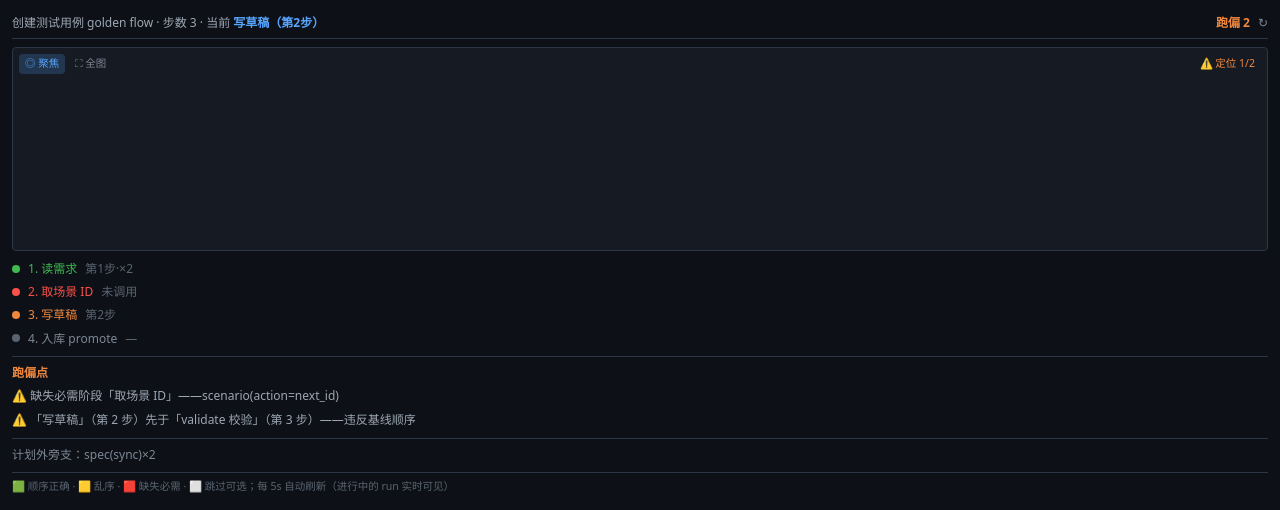
Scenario: ⚠ 定位按钮：问题节点计数与循环进度
Click the button with test id "flow-locate": coordinates (1227, 64) [1194,54,1261,74]
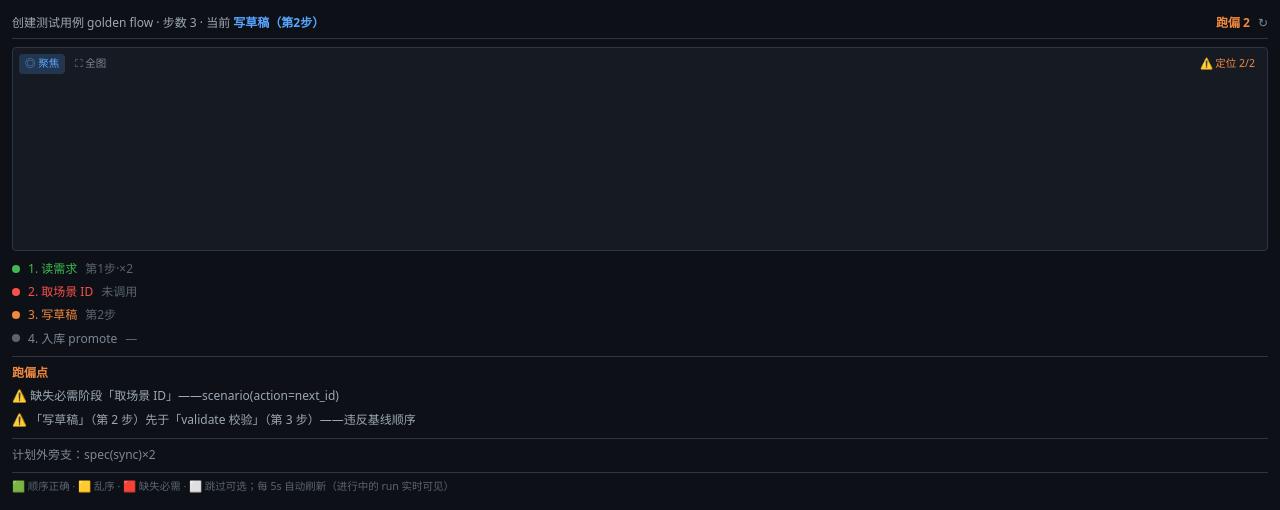
Check: the button with test id "flow-locate" shows "2/2", box [1194,54,1261,74]
